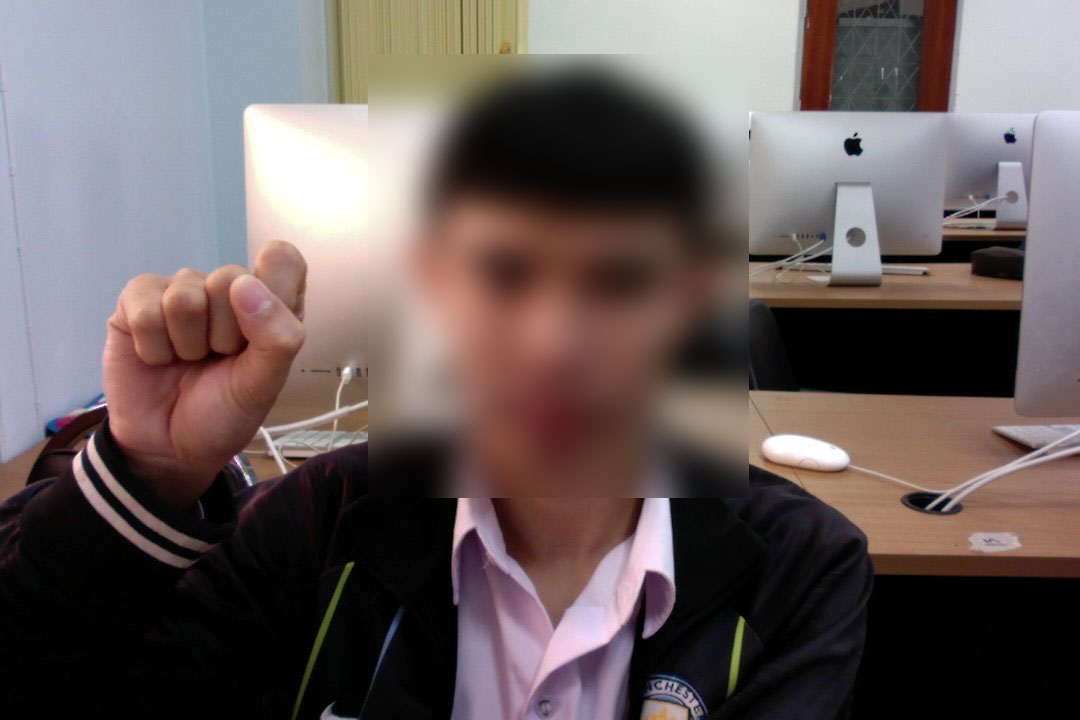sor: (94, 235, 322, 478)
